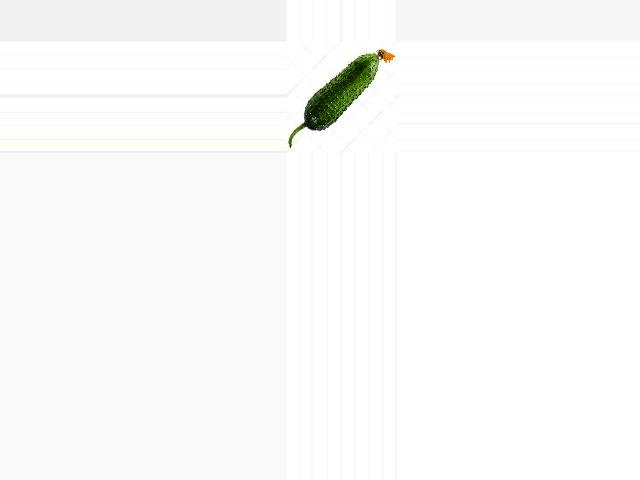cucumber: (289, 49, 395, 147)
